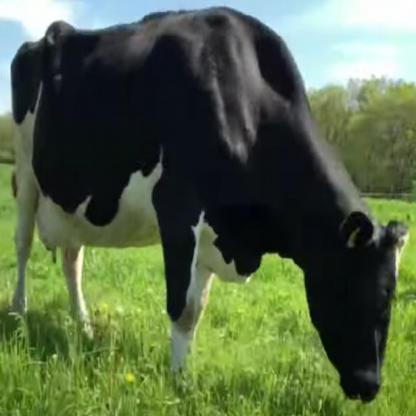cow: (10, 5, 410, 404)
